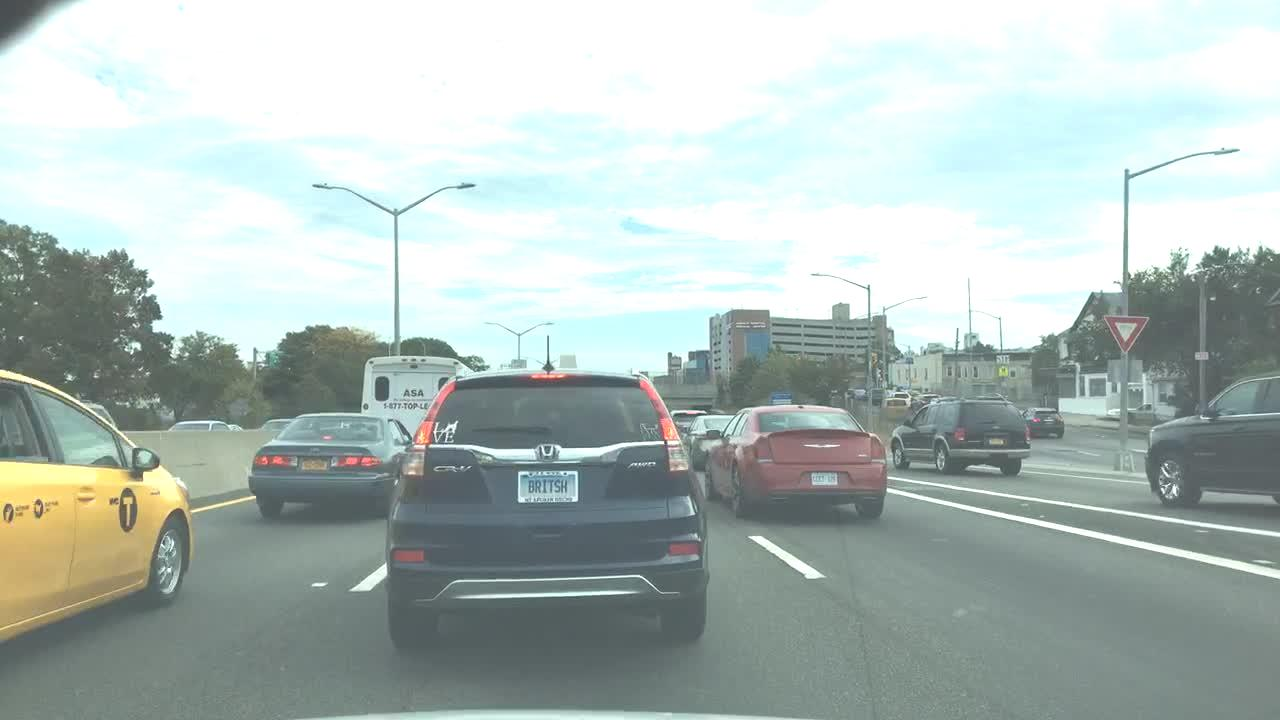Chrysler: (799, 439, 846, 454)
Honda: (534, 440, 563, 462)
